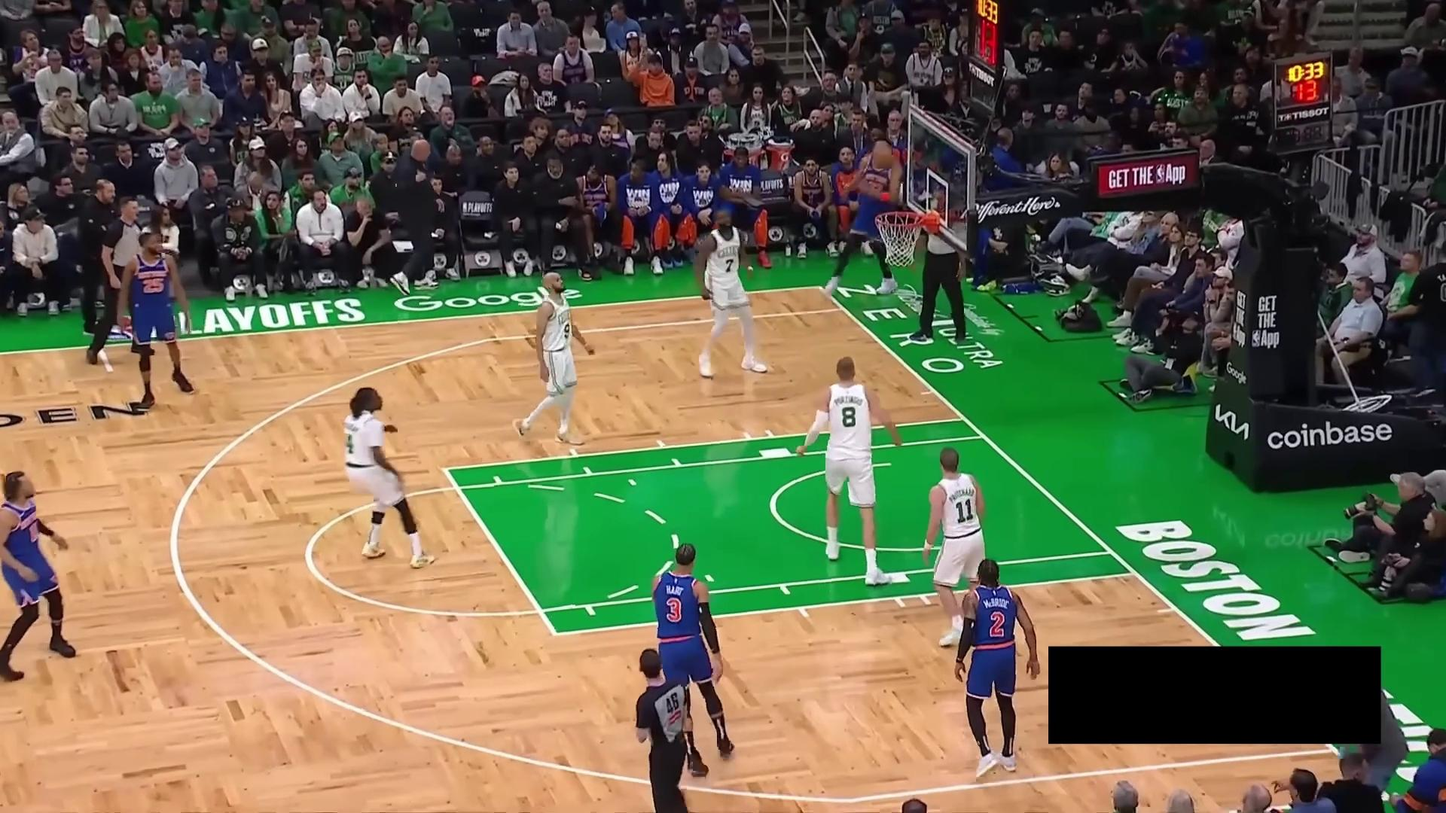ball: (871, 142, 893, 171)
number: (953, 498, 974, 523), (841, 405, 859, 429), (989, 610, 1006, 635), (665, 598, 681, 622), (143, 277, 164, 293), (346, 434, 356, 455), (723, 258, 734, 274), (564, 323, 570, 339)
player: (794, 356, 903, 587), (649, 541, 737, 777), (954, 558, 1041, 782), (342, 387, 436, 570), (0, 470, 78, 682), (822, 139, 912, 306), (515, 269, 595, 446), (119, 231, 196, 412), (924, 448, 990, 648), (695, 209, 769, 378)
referee: (0, 470, 78, 682), (84, 195, 152, 365), (633, 645, 693, 813), (911, 222, 968, 343)
rim: (872, 210, 926, 229)
